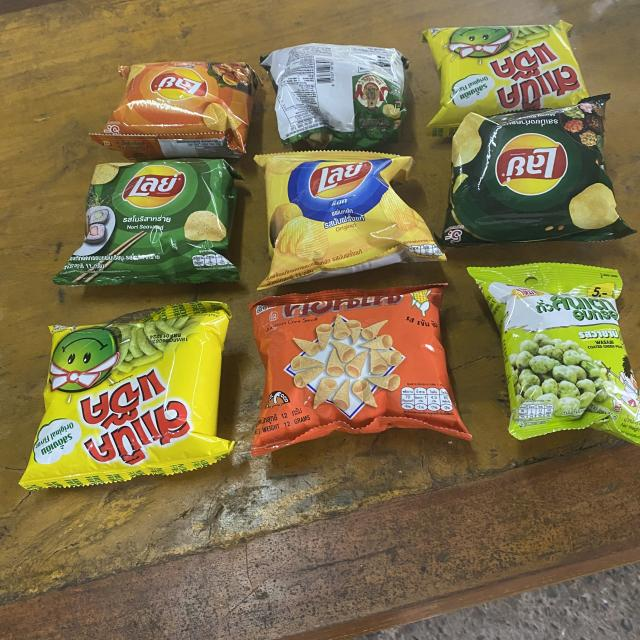plastik: (20, 301, 234, 490), (249, 284, 471, 456), (468, 262, 640, 445), (440, 94, 635, 246), (255, 151, 446, 290), (52, 159, 240, 285), (422, 20, 589, 136), (90, 61, 261, 160), (261, 44, 409, 150)
